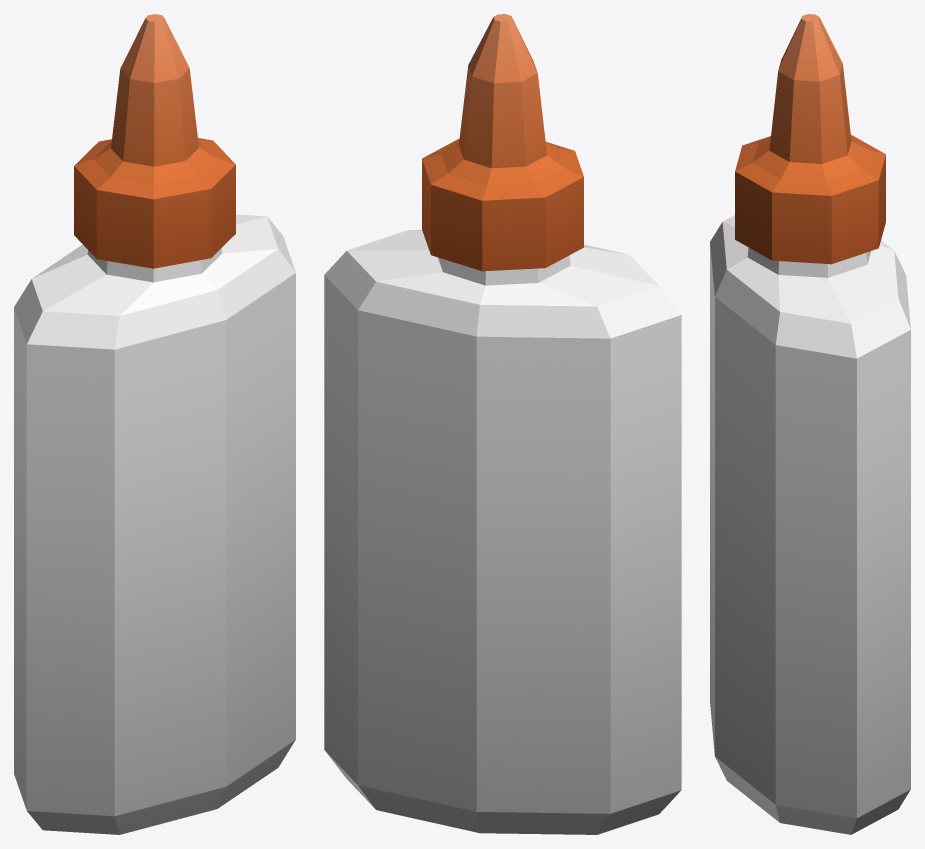
File: glue.fbx
3 renders of one model, left to right at view 1: azimuth 30°, elevation 25°; view 2: azimuth 150°, elevation 25°; view 3: azimuth 270°, elevation 25°, orthographic. The views are drawn at different scales.
Visible parts, largest first — view 1: Circle.001; view 2: Circle.001; view 3: Circle.001.
Boxes of the visible parts, left/top/right/bottom form: Circle.001: left=14, top=14, right=295, bottom=834; Circle.001: left=324, top=14, right=681, bottom=834; Circle.001: left=710, top=14, right=910, bottom=834.
Bounding box in the file's own units: 12.9 × 31.45 × 7.51.
